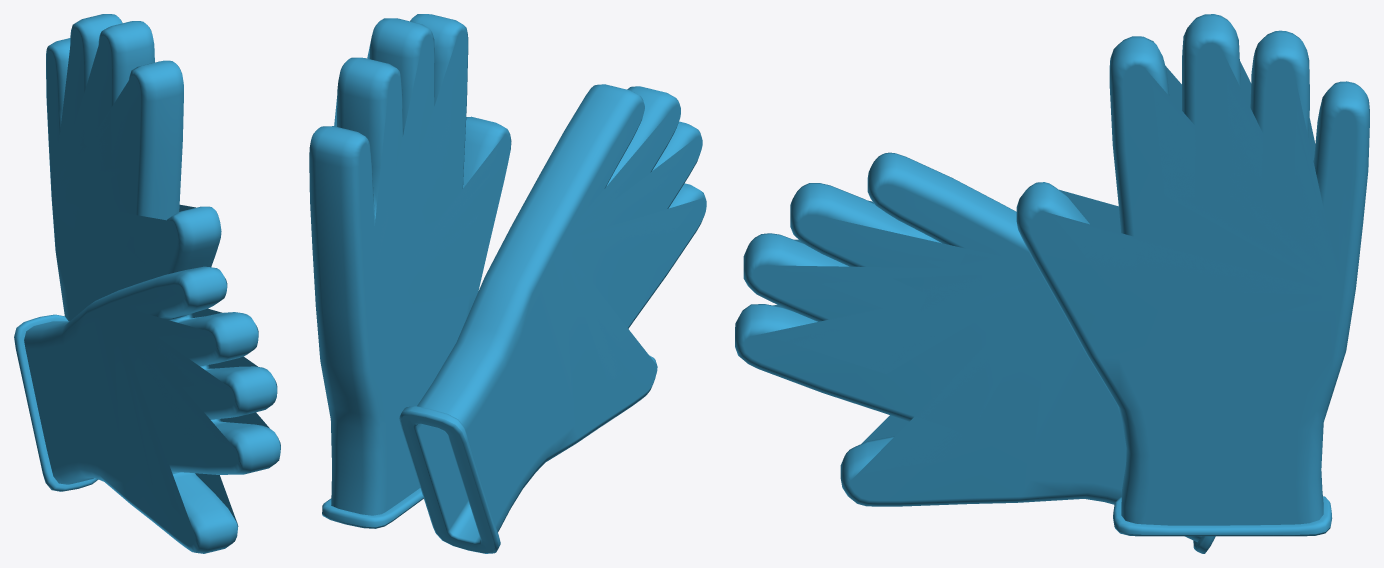
The model's file is GuantesColor.fbx.
3 views of the same model, side by side, from view 1: azimuth 30°, elevation 25°; view 2: azimuth 150°, elevation 25°; view 3: azimuth 270°, elevation 25° (orthographic). The views are drawn at different scales.
Visible parts, largest first — view 1: guante2, guante1; view 2: guante2, guante1; view 3: guante1, guante2.
Part boxes in pixels (x1,y1,x2,y2): guante2: [14, 266, 280, 553]; guante1: [46, 14, 221, 321]; guante2: [399, 84, 706, 553]; guante1: [309, 14, 511, 528]; guante1: [1016, 14, 1369, 536]; guante2: [735, 152, 1215, 553].
Bounding box in the file's own units: 11.61 × 44.56 × 46.15.
